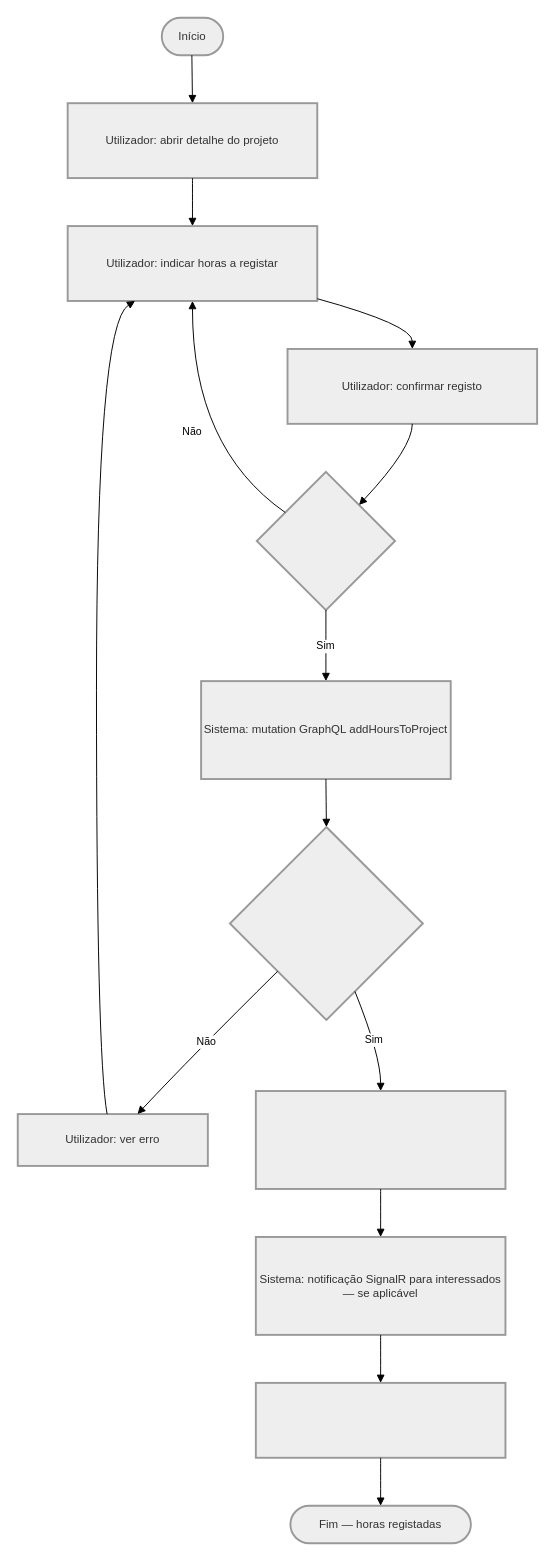
The diagram is 554 pixels wide and 1560 high, and some of its shapes have lost their labels. Each missing label, with the centre of its shape:
Operação concluída?: the point at 325,923
Sistema: AddHoursToProjectHandler — atualizar registo de horas: the point at 380,1139
Utilizador: vê horas atualizadas / feedback: the point at 380,1419
Valor válido?: the point at 325,540
